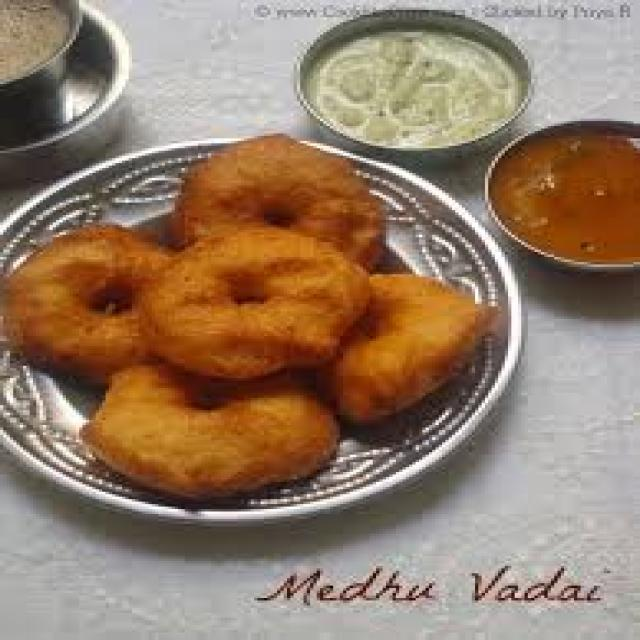MEDU VADA: (139, 225, 366, 378), (79, 366, 333, 494), (172, 138, 379, 262), (7, 225, 168, 376), (330, 277, 492, 420)
